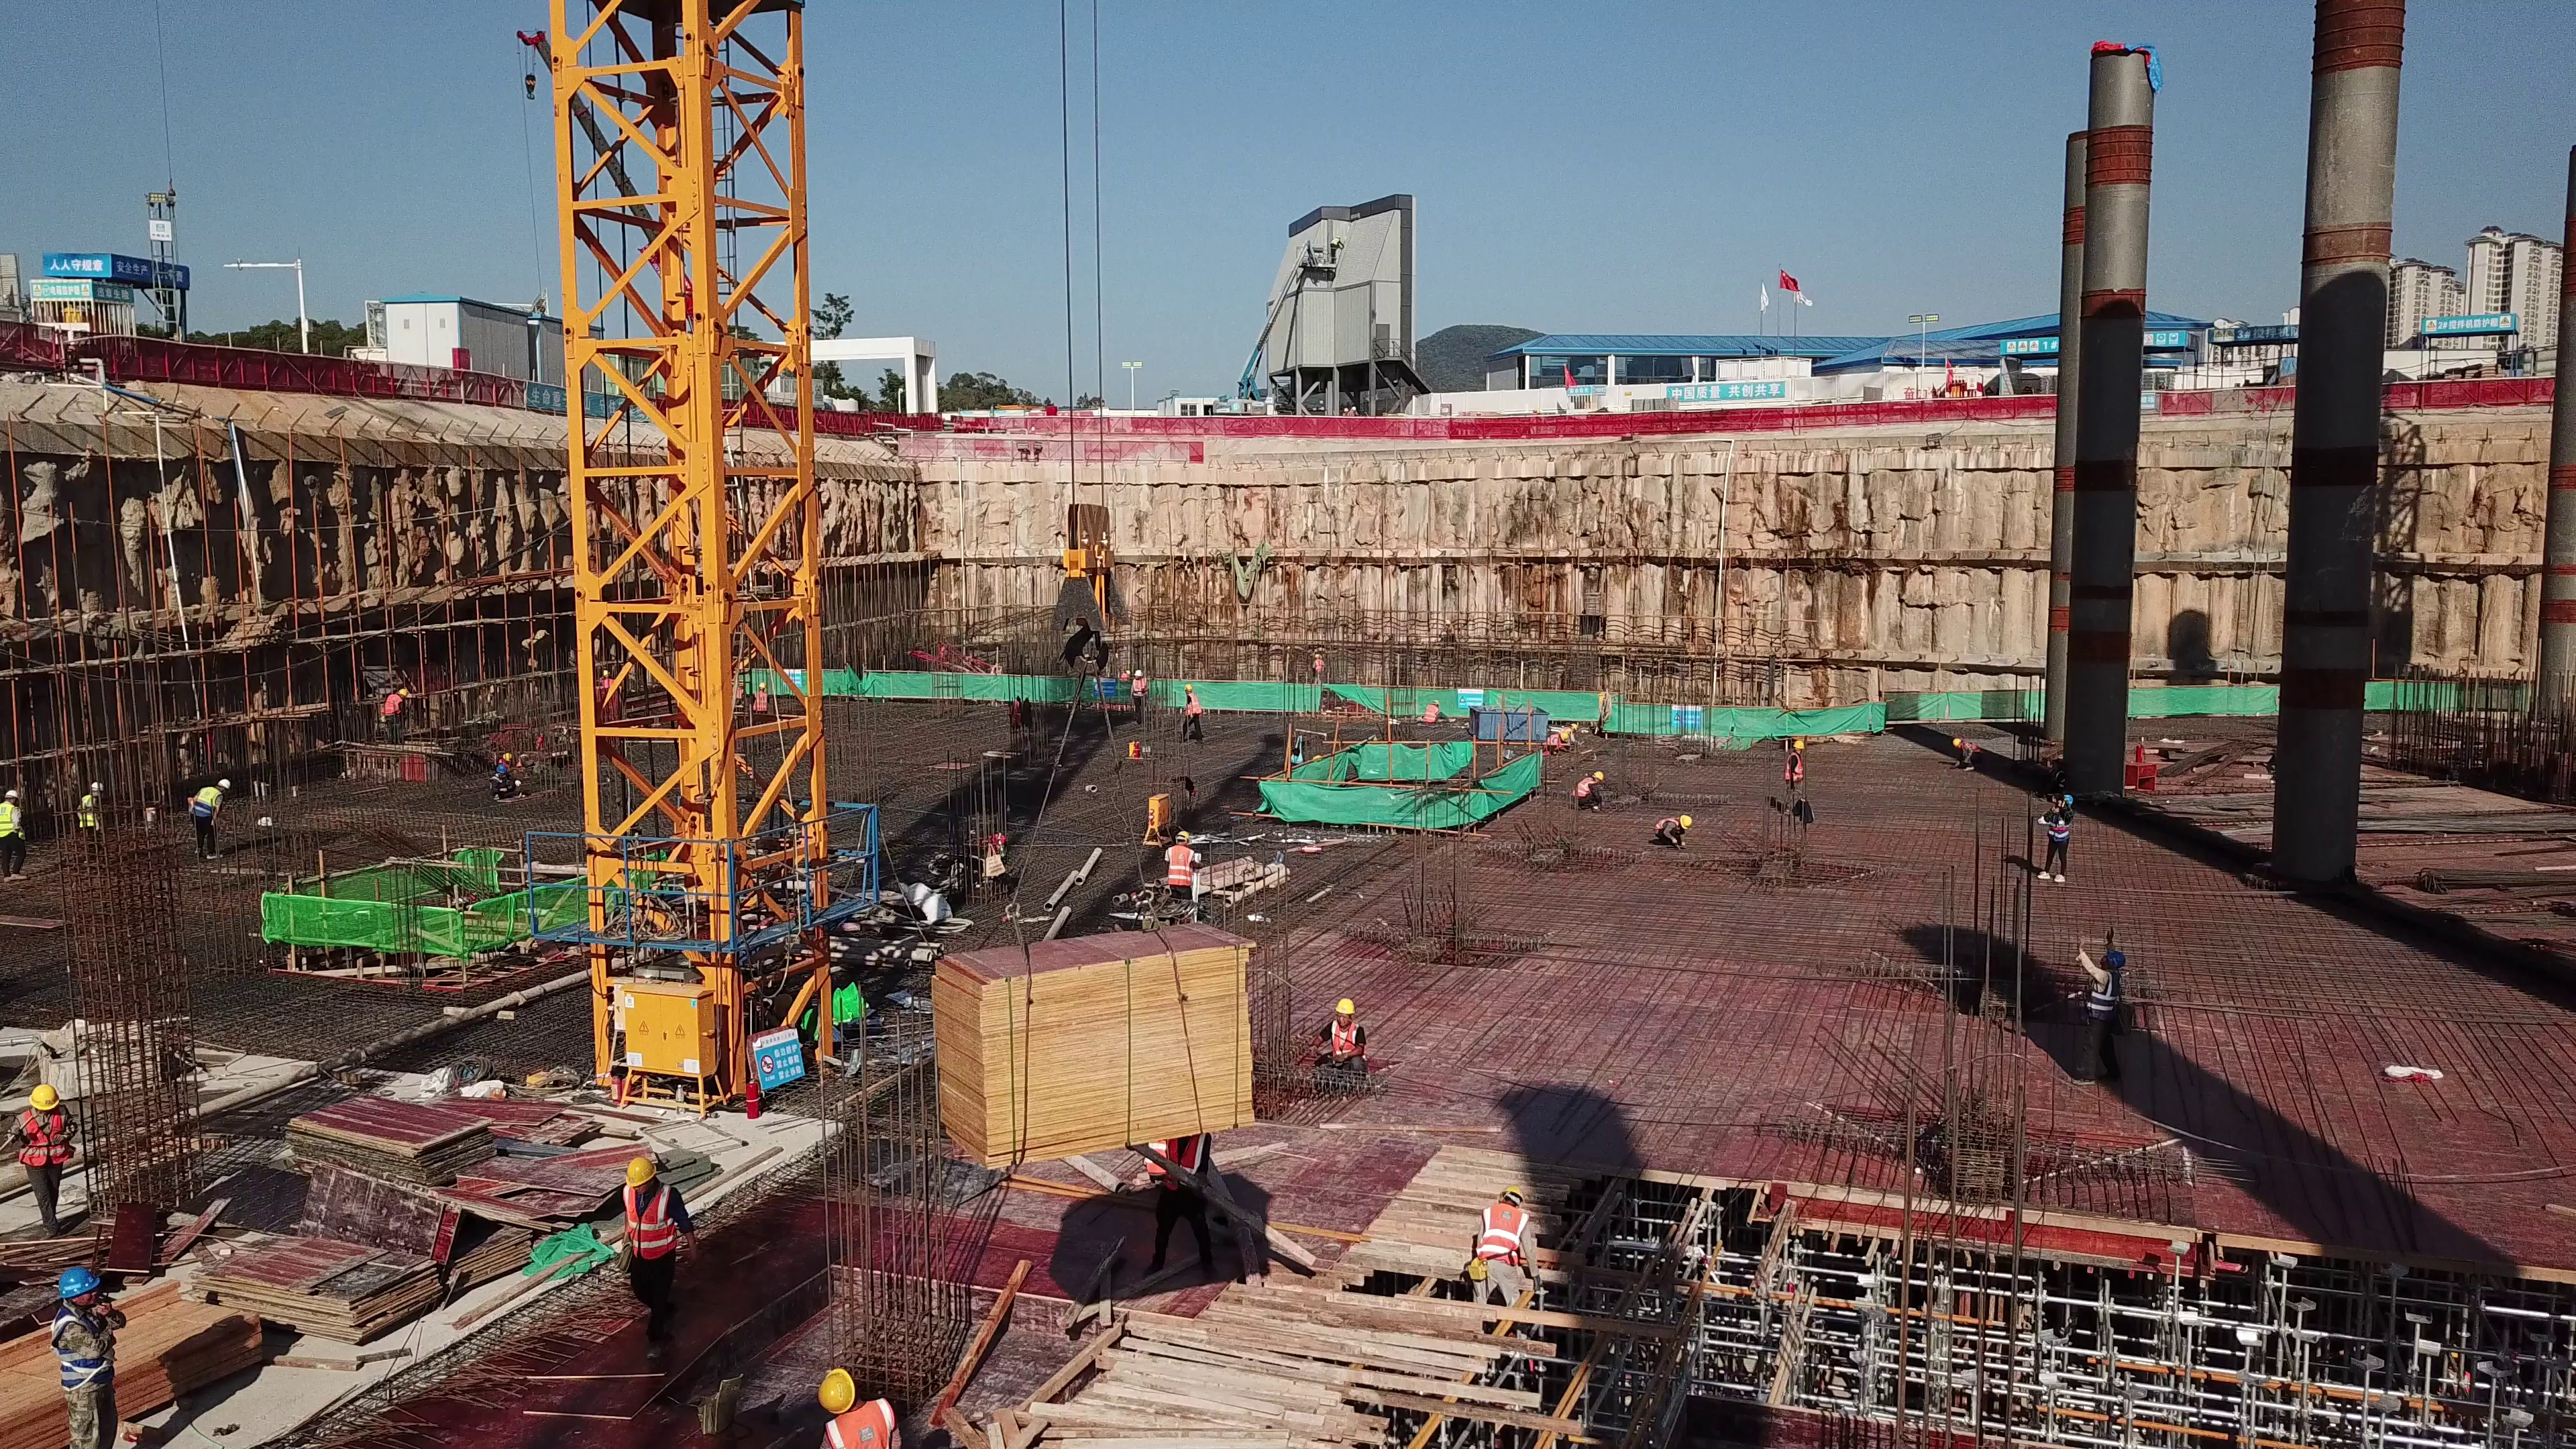helmet: (812, 1366, 859, 1417), (51, 1265, 110, 1300), (30, 1083, 55, 1110), (1332, 997, 1360, 1018), (624, 1161, 655, 1181), (2110, 949, 2131, 970), (1175, 827, 1193, 841), (1945, 735, 1961, 750), (1681, 812, 1693, 830), (4, 788, 21, 799), (1593, 769, 1607, 782), (87, 780, 105, 790), (2064, 792, 2074, 807), (1791, 741, 1807, 751), (1558, 733, 1569, 743), (1570, 722, 1580, 733), (1134, 668, 1146, 676), (1183, 683, 1195, 690)
person: (614, 1156, 696, 1383), (43, 1265, 137, 1449), (14, 1074, 89, 1232), (1461, 1181, 1542, 1321), (2069, 926, 2137, 1087), (1316, 995, 1390, 1091), (798, 1370, 888, 1449), (178, 780, 232, 867), (1158, 827, 1210, 909), (2037, 792, 2080, 887), (68, 779, 108, 861), (1781, 739, 1818, 821), (1, 788, 28, 886), (1566, 767, 1613, 816), (1648, 811, 1691, 859), (378, 686, 410, 748), (1127, 667, 1155, 732), (1179, 682, 1209, 745), (1944, 735, 1983, 775), (493, 752, 524, 800), (749, 681, 773, 729), (1305, 649, 1328, 688), (1545, 729, 1572, 755), (1418, 700, 1446, 728), (600, 670, 620, 697)
vest: (54, 1312, 111, 1389), (622, 1187, 680, 1260), (19, 1114, 74, 1167), (828, 1405, 887, 1449), (2090, 969, 2131, 1026), (1480, 1202, 1520, 1258), (1161, 843, 1197, 895), (2049, 806, 2082, 849), (1332, 1020, 1365, 1059), (193, 782, 218, 818), (1572, 777, 1595, 804), (1784, 753, 1807, 782), (80, 794, 99, 826), (1, 804, 18, 835), (1186, 693, 1207, 718), (1129, 678, 1148, 699), (1656, 817, 1678, 836), (1962, 740, 1981, 753), (1426, 704, 1440, 724), (1545, 733, 1558, 749), (1313, 660, 1325, 676)
